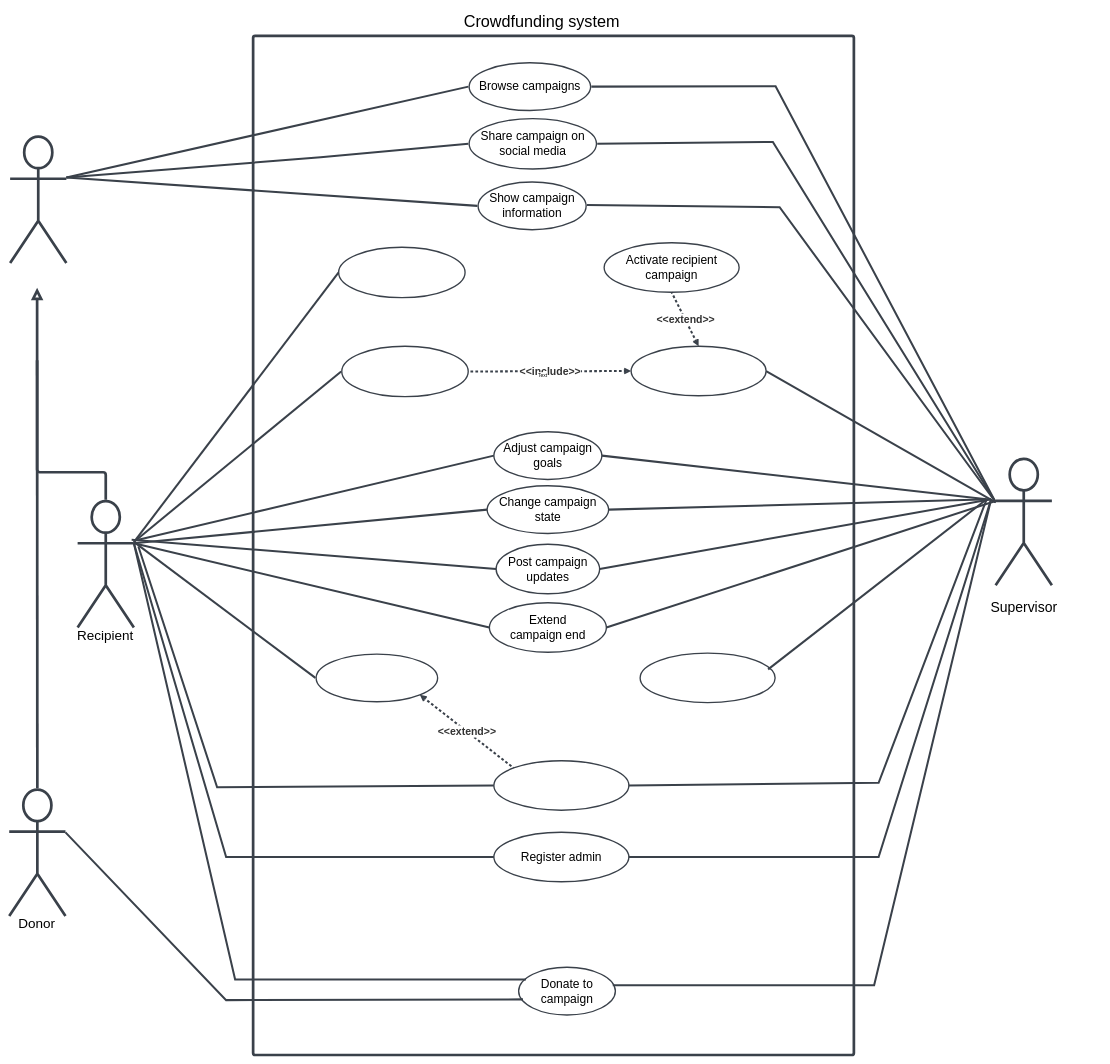
Image size: 1110x1064. Some labels were removed from this diagram. Here are the shapes that lost their labels. From the top down, the box of each, then its label:
(9, 135, 68, 264): End user
(338, 246, 466, 298): Request campaign adjustment
(341, 345, 469, 397): Apply for campaign creation
(630, 345, 767, 396): Verify recipient campaign
(315, 653, 438, 702): Create recipient account
(639, 652, 776, 703): Manage recipient campaigns
(493, 760, 629, 811): Login user
